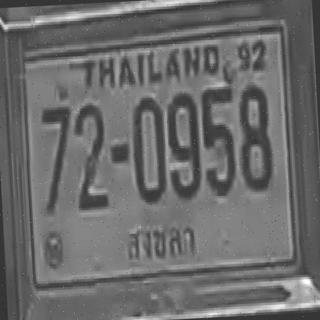N00: (130, 95, 166, 203)
N02: (72, 102, 107, 210)
N05: (200, 84, 237, 195)
N07: (40, 104, 74, 212)
N08: (237, 82, 272, 190)
N09: (166, 90, 201, 198)
P64: (123, 213, 200, 268)
